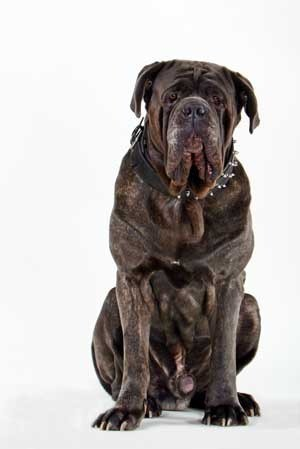mastiff: (89, 58, 261, 432)
